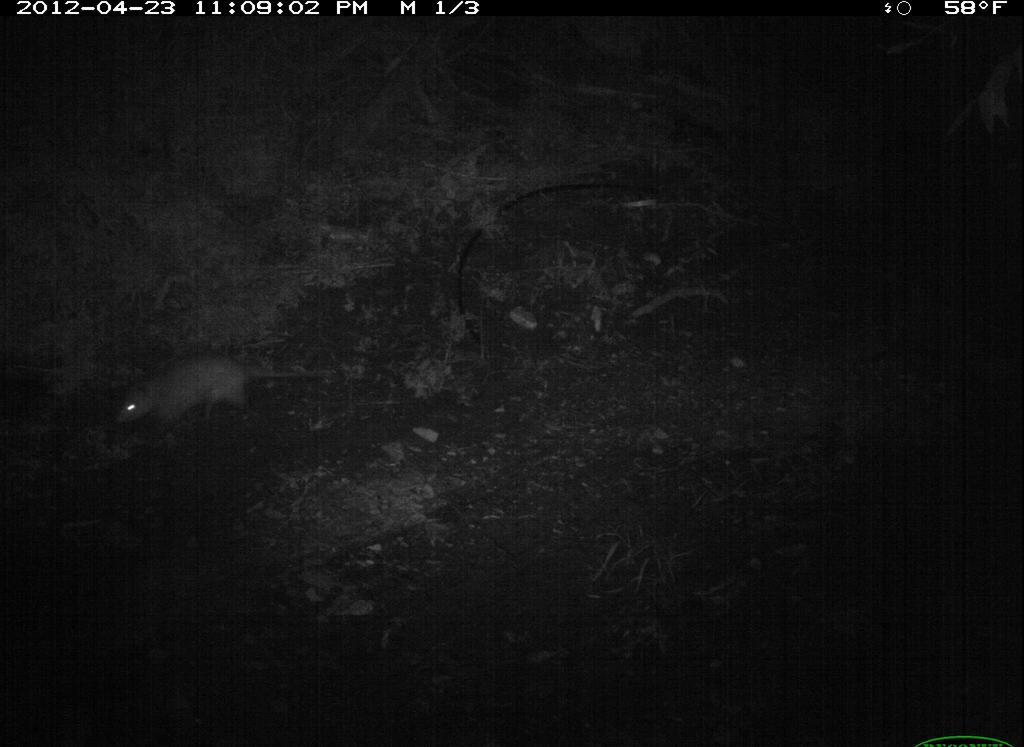opossum: (107, 353, 340, 434)
